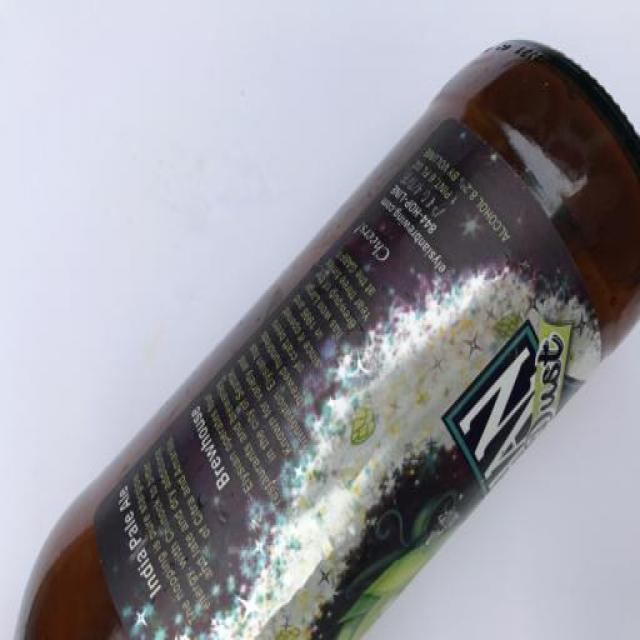glass: (2, 34, 640, 640)
